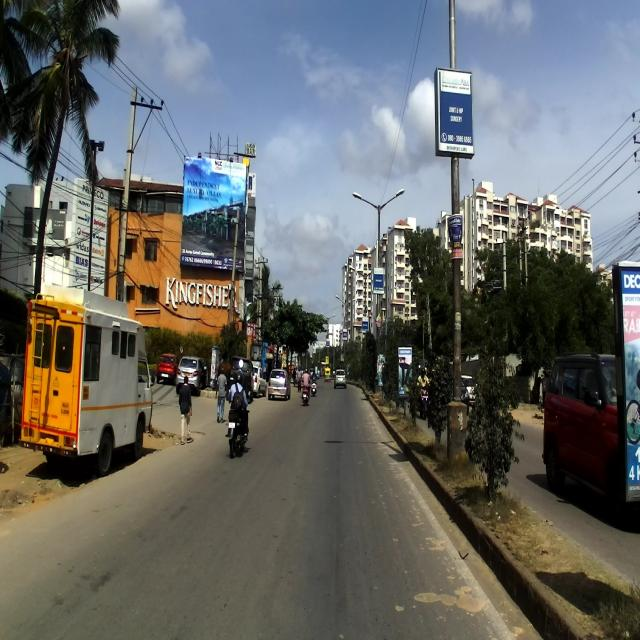Car_TATA: (268, 367, 291, 400)
motorcycle_Honda: (225, 388, 251, 459)
truck: (17, 285, 156, 476)
